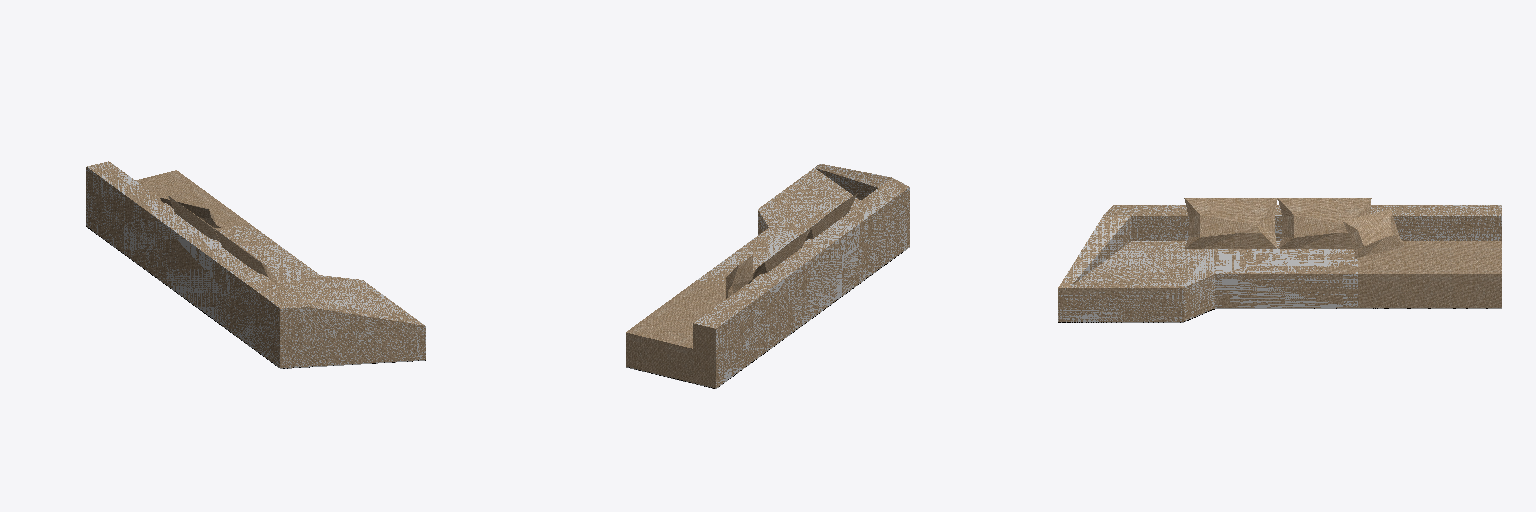
3 renders of one model, left to right at view 1: azimuth 30°, elevation 25°; view 2: azimuth 150°, elevation 25°; view 3: azimuth 270°, elevation 25°, orthographic.
Parts seen in each view (by area): view 1: mesh3_mesh3-geometry, mesh1.001_mesh1-geometry, mesh1.002_mesh1-geometry; view 2: mesh3_mesh3-geometry, mesh1.003_mesh1-geometry, mesh1.002_mesh1-geometry, mesh1.001_mesh1-geometry; view 3: mesh3_mesh3-geometry, mesh1.001_mesh1-geometry, mesh1.002_mesh1-geometry, mesh1.003_mesh1-geometry.
Boxes of the visible parts, box(x1,y1,x2,y2) form: mesh3_mesh3-geometry: box(86, 161, 425, 368); mesh1.001_mesh1-geometry: box(215, 229, 278, 284); mesh1.002_mesh1-geometry: box(168, 196, 219, 241); mesh3_mesh3-geometry: box(626, 164, 909, 388); mesh1.003_mesh1-geometry: box(726, 255, 752, 298); mesh1.002_mesh1-geometry: box(753, 229, 810, 278); mesh1.001_mesh1-geometry: box(805, 193, 857, 240); mesh3_mesh3-geometry: box(1058, 205, 1501, 322); mesh1.001_mesh1-geometry: box(1184, 198, 1277, 248); mesh1.002_mesh1-geometry: box(1278, 198, 1371, 248); mesh1.003_mesh1-geometry: box(1343, 209, 1403, 258).
Bounding box in the file's own units: 0.2878 × 0.1779 × 0.941.
Materials: 3 (1 with a texture image).